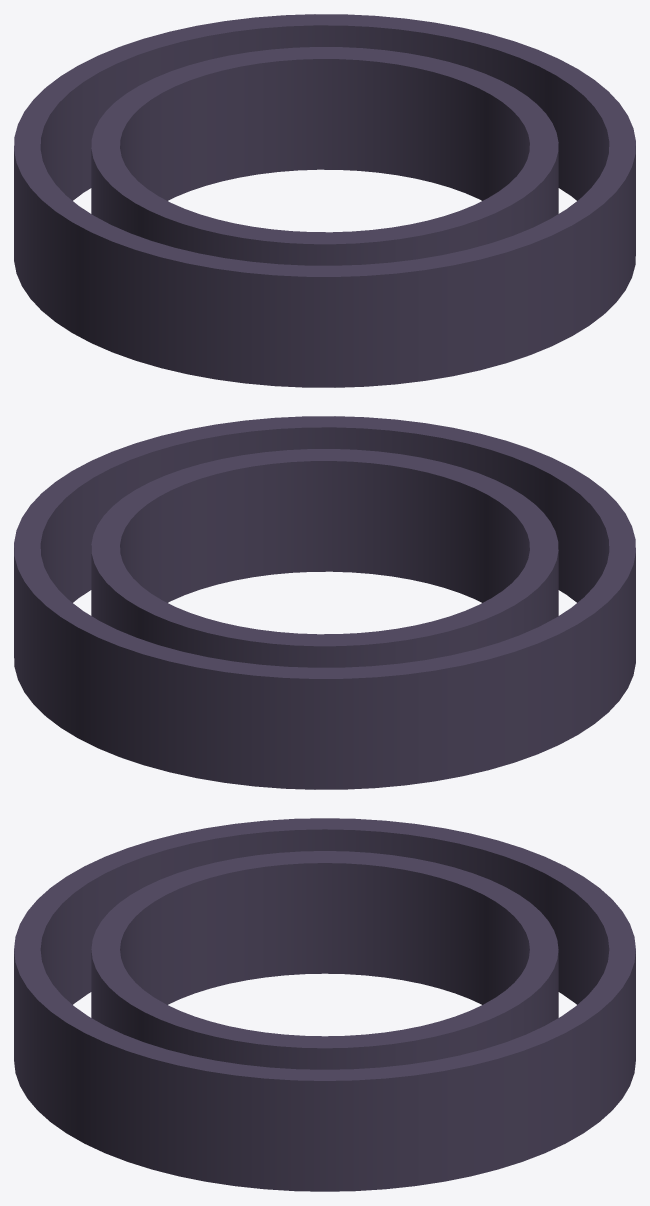
File: Obstacles 1.fbx
The picture shows the model from 3 angles, top to bottom: view 1: azimuth 30°, elevation 25°; view 2: azimuth 150°, elevation 25°; view 3: azimuth 270°, elevation 25°; orthographic projection.
Visible parts, largest first — view 1: Cylinder.013, Cylinder.012; view 2: Cylinder.013, Cylinder.012; view 3: Cylinder.013, Cylinder.012.
Part boxes in pixels (<box>): Cylinder.013: <box>14,14,635,387</box>; Cylinder.012: <box>91,47,558,265</box>; Cylinder.013: <box>14,416,635,789</box>; Cylinder.012: <box>91,449,558,667</box>; Cylinder.013: <box>14,818,635,1191</box>; Cylinder.012: <box>91,851,558,1069</box>.
Size of the model in its own units: 177 by 34.73 by 177.
